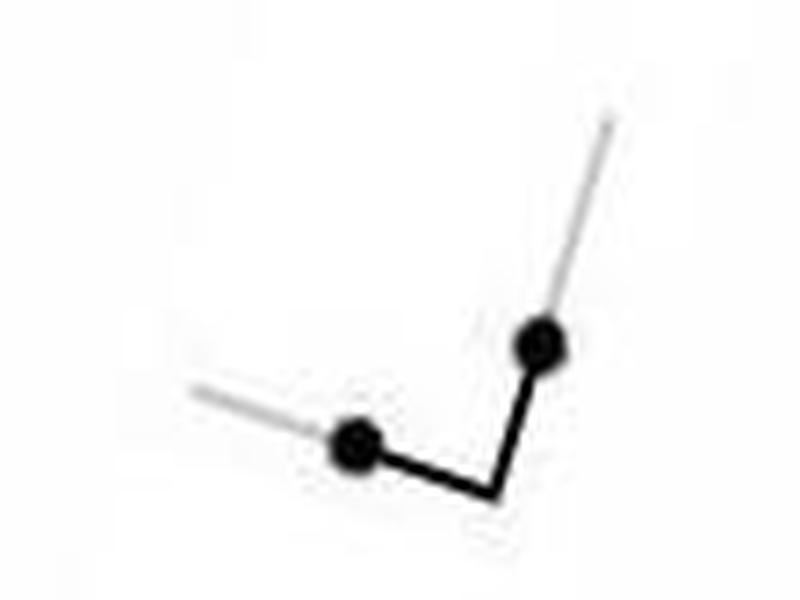butt_weld_90: (180, 101, 637, 530)
